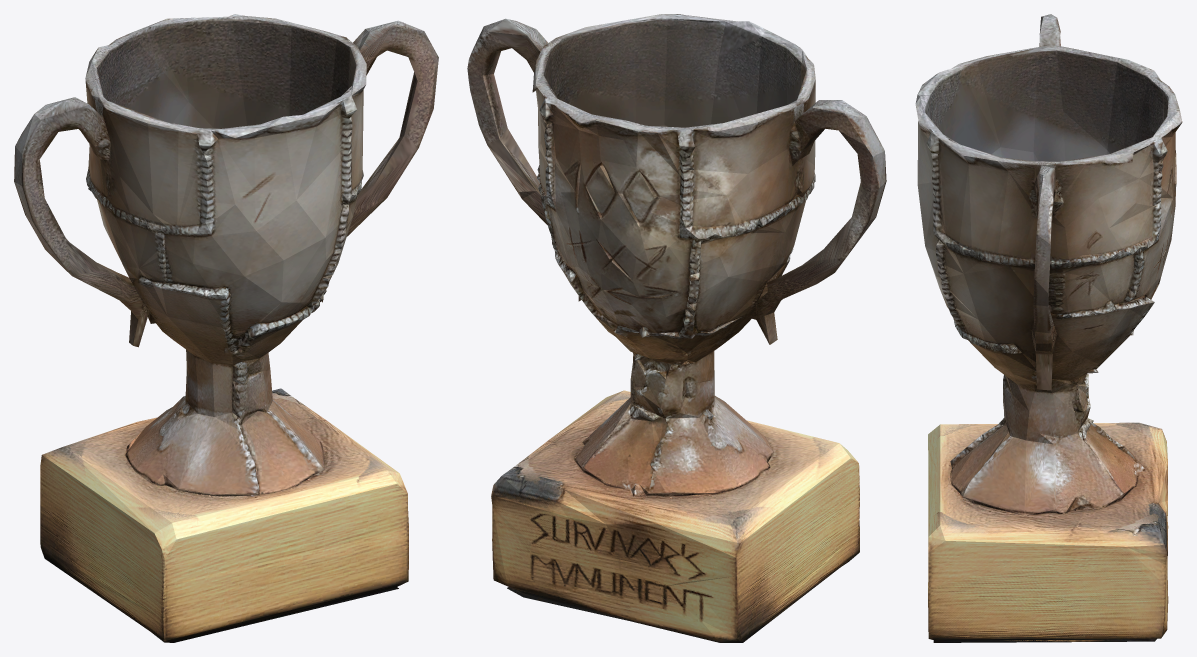
The model's file is P_WastelandTrophy.obj.
3 renders of one model, left to right at view 1: azimuth 30°, elevation 25°; view 2: azimuth 150°, elevation 25°; view 3: azimuth 270°, elevation 25°, orthographic. The views are drawn at different scales.
Size of the model in its own units: 0.99 by 1.17 by 0.5718.
Materials: 1 (1 with a texture image).
